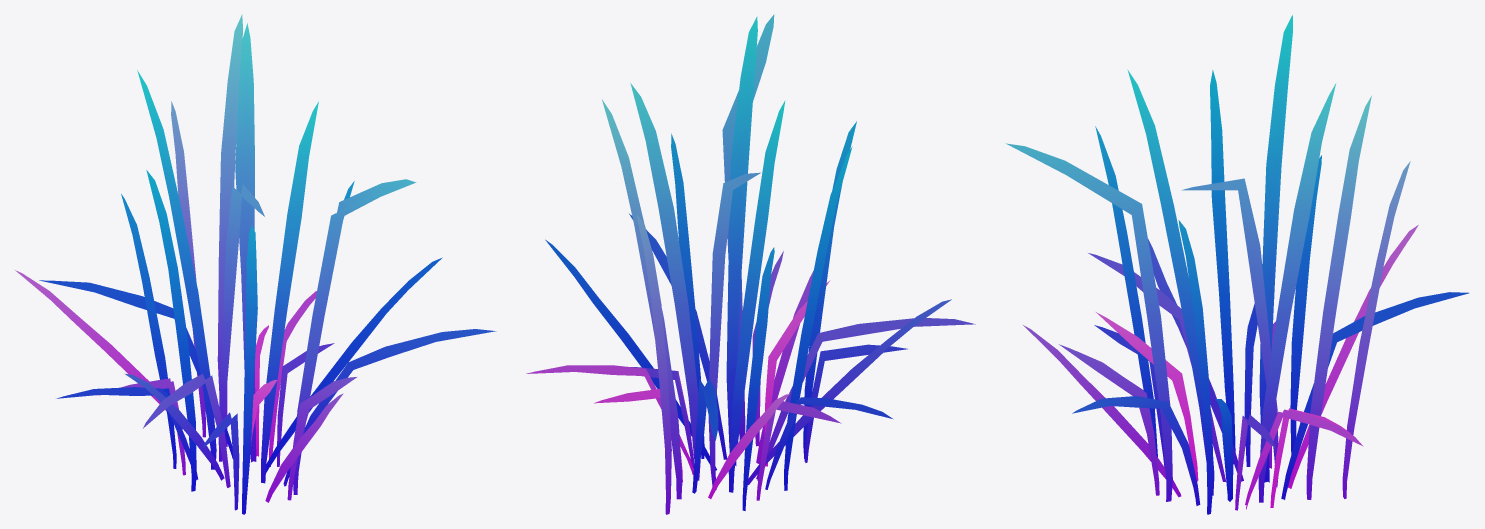
The model's file is q_grass_wispy.glb.
3 views of the same model, side by side, from view 1: azimuth 30°, elevation 25°; view 2: azimuth 150°, elevation 25°; view 3: azimuth 270°, elevation 25° (orthographic). The views are drawn at different scales.
Visible parts, largest first — view 1: Grass; view 2: Grass; view 3: Grass.
Part boxes in pixels (box(x1,y1,x2,y2)): Grass: box(15, 14, 496, 514); Grass: box(526, 14, 975, 514); Grass: box(1005, 15, 1469, 514).
Size of the model in its own units: 0.3869 by 0.42 by 0.4004.
